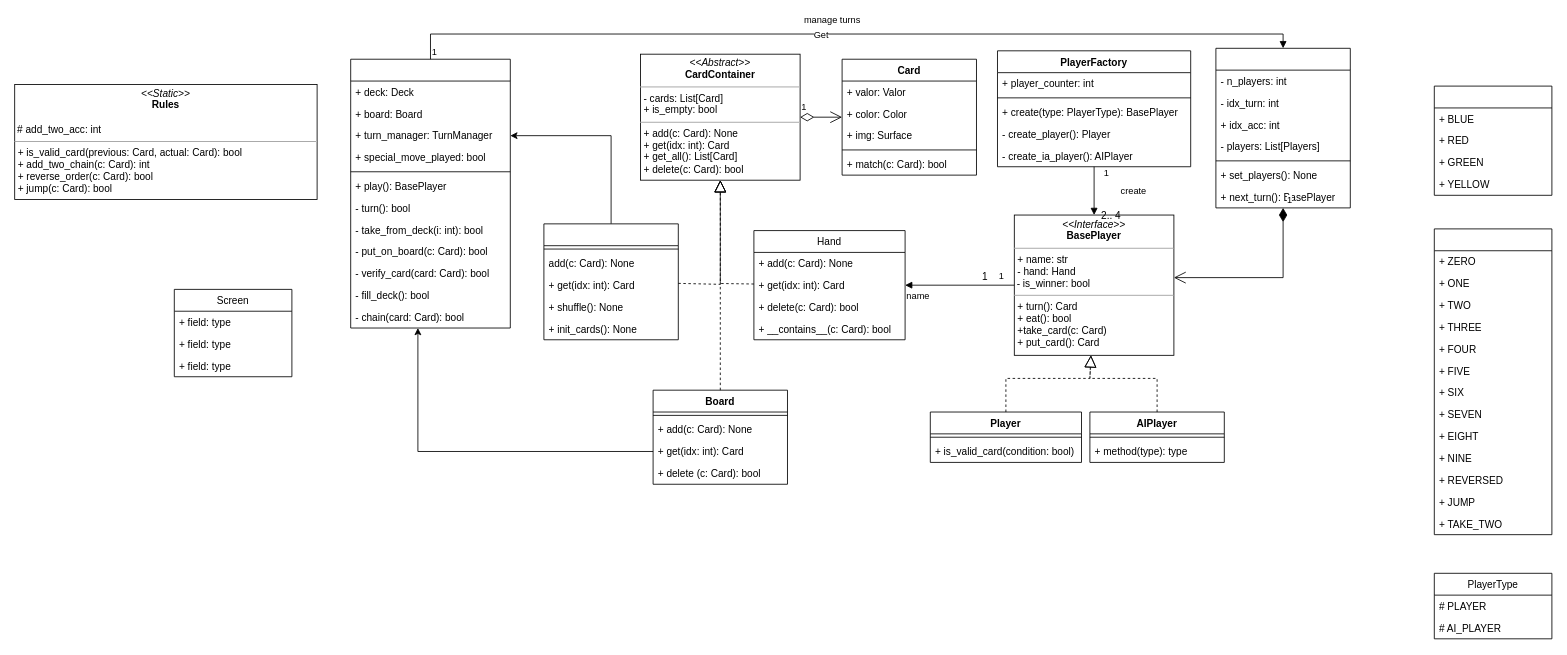
Some shapes in this 1567 by 655 pixel diagram are drawn without their labels. Here are the shapes that lost their labels. From the top down, the box of each, then its label:
(1215, 47, 1350, 208): TurnManager
(1433, 85, 1552, 195): Color
(350, 58, 510, 328): Game
(543, 223, 678, 340): Deck
(1433, 228, 1552, 535): Valor
